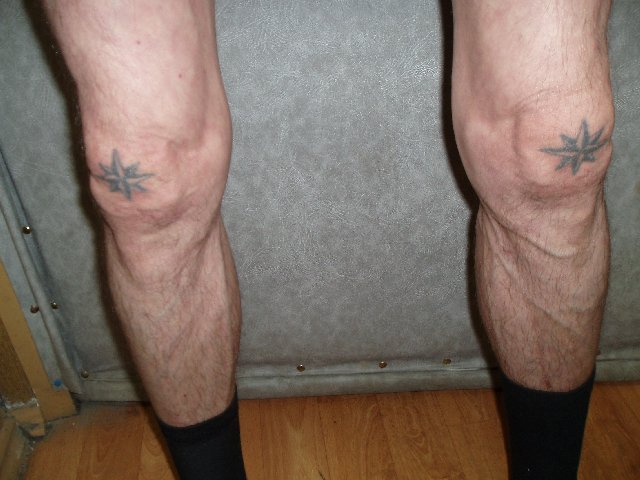tatu4_zvezda: (527, 117, 615, 185), (88, 146, 160, 209)
